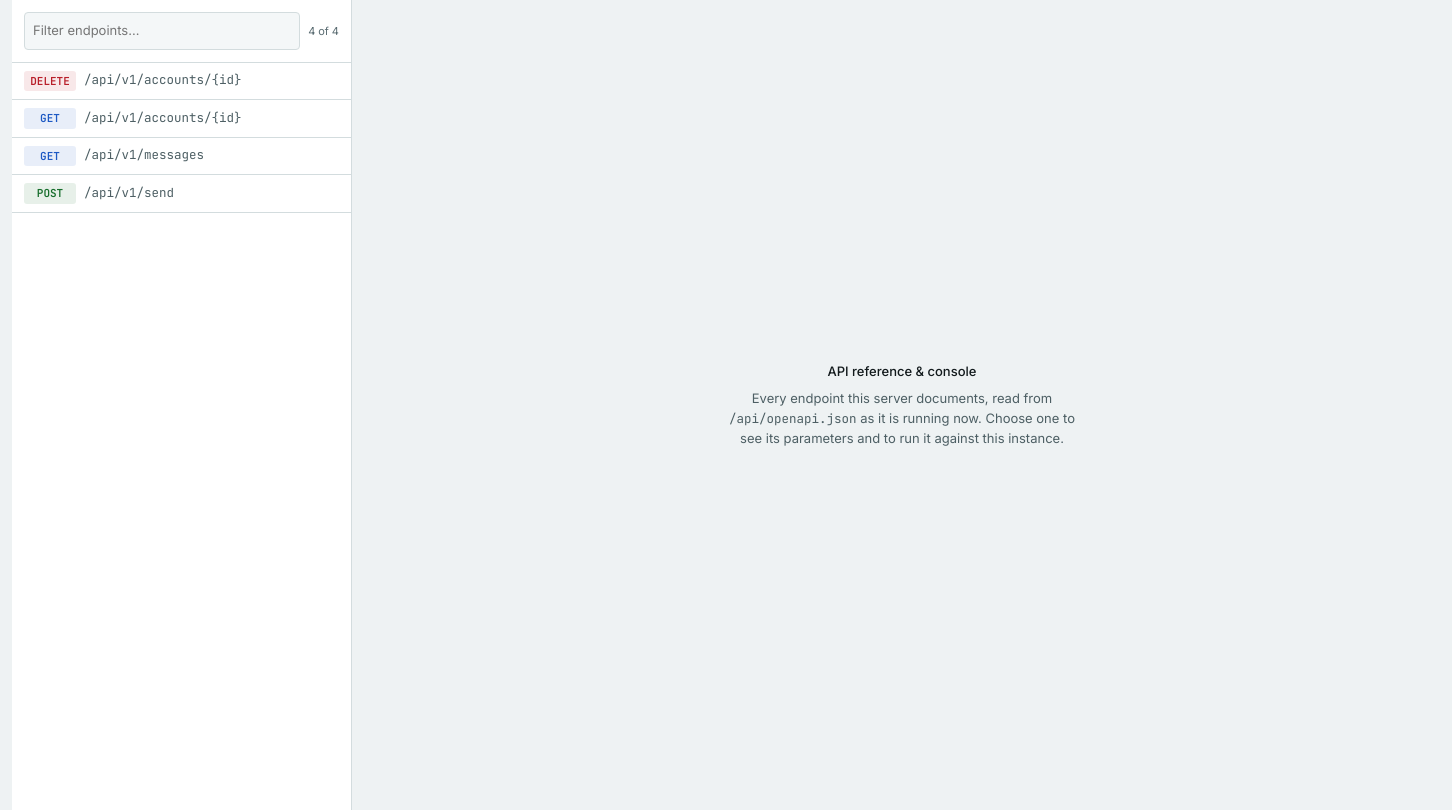
it: executing a request › sends the selected operation to its real path
Expected: the text "4 of 4" is shown, [308,22,339,39]
Click the text "/api/v1/messages".
click(144, 156)  # box [84,146,204,165]
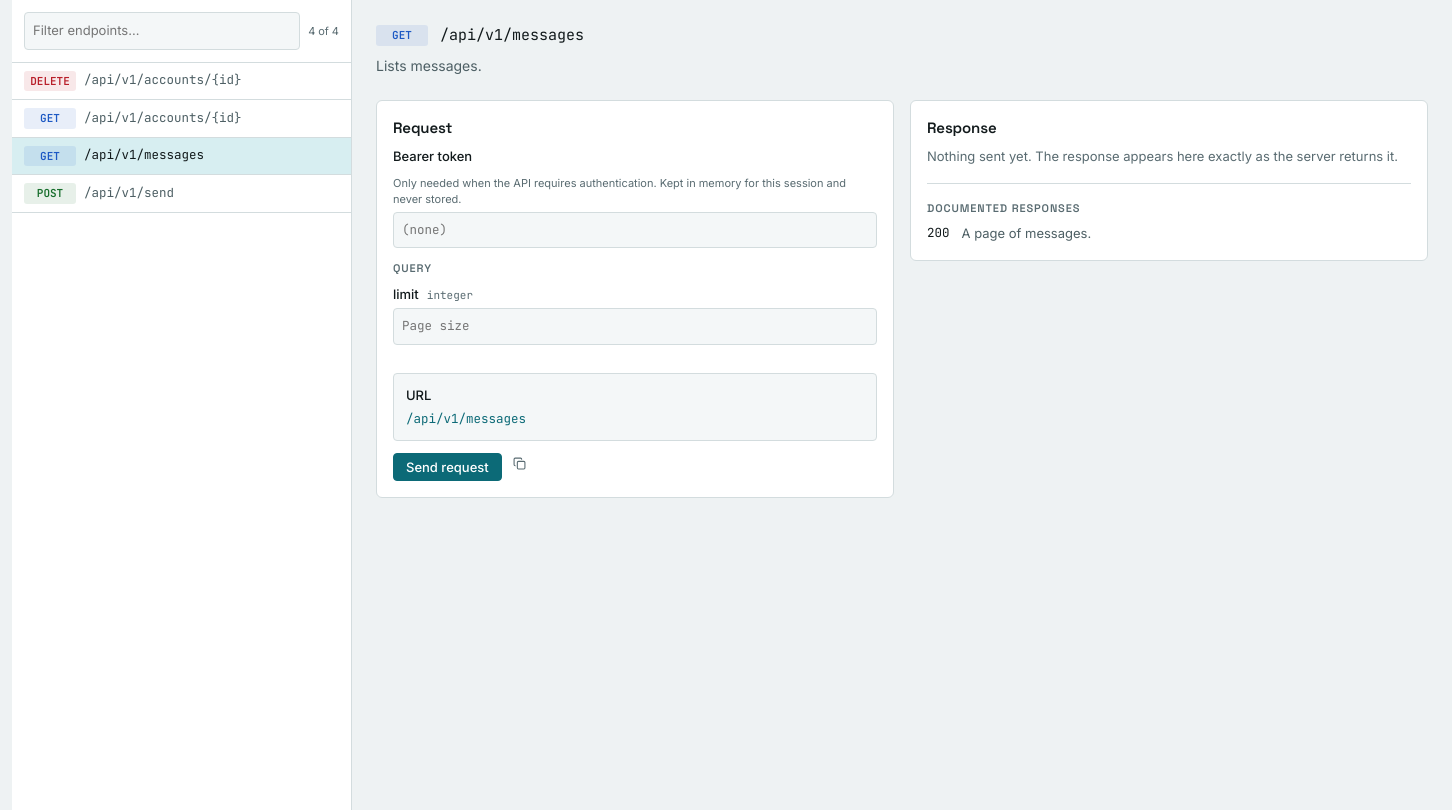
Click the button "Send request".
click(447, 467)  # box [393,453,502,481]
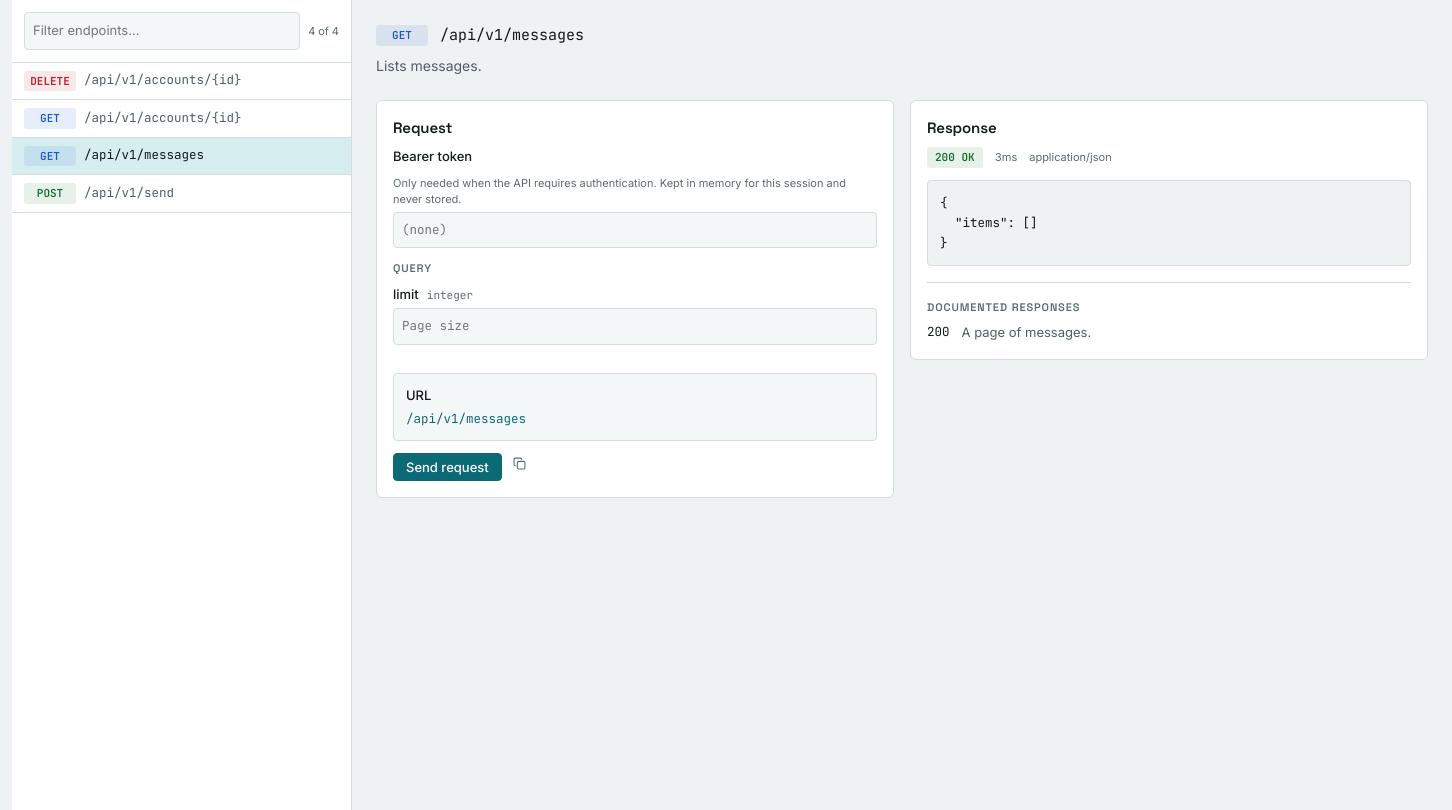
Expected: the 2nd text "/api/v1/messages" is shown, [84,146,204,165]
Expected: the text "200 OK" is shown, [927,147,983,168]
